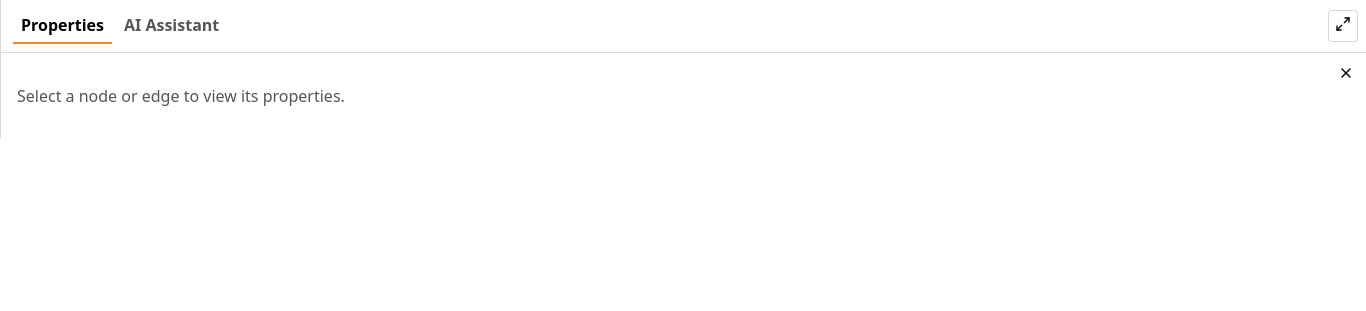
Test: the two tabs › shows the assistant and moves the tabpanel label with it
Click the tab "AI Assistant" at (172,26), box [116,8,227,44]
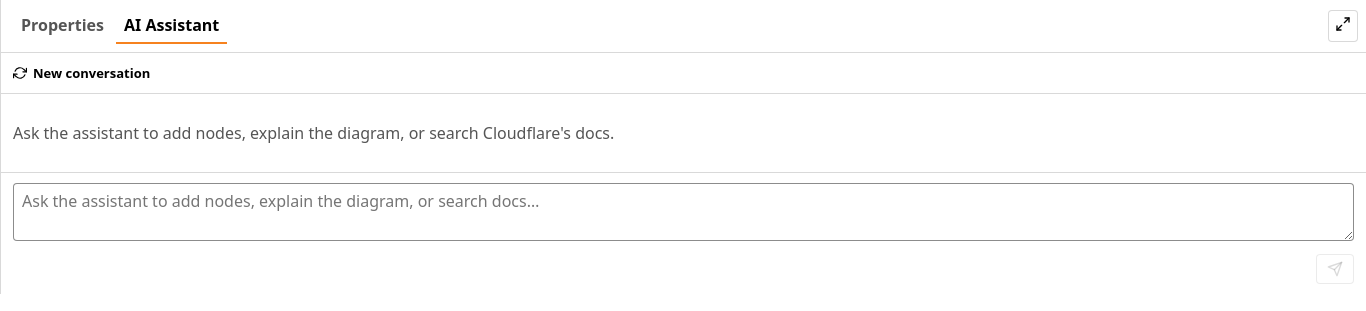
Now the text box named "Message the AI assistant" is shown, box [13,183,1354,241]
Now the text "Select a node or edge to view its properties." is gone
